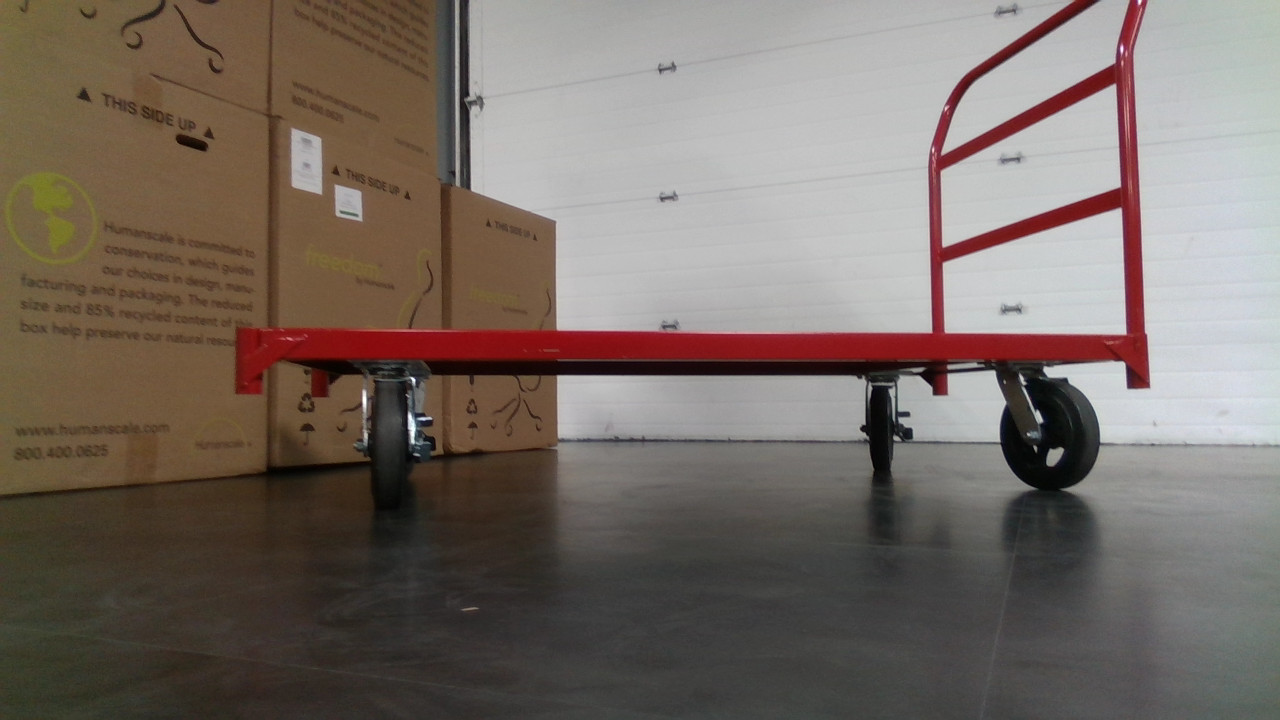Dolly: (234, 0, 1174, 508)
Wheel: (996, 382, 1105, 493), (357, 377, 419, 507), (858, 388, 905, 473)
